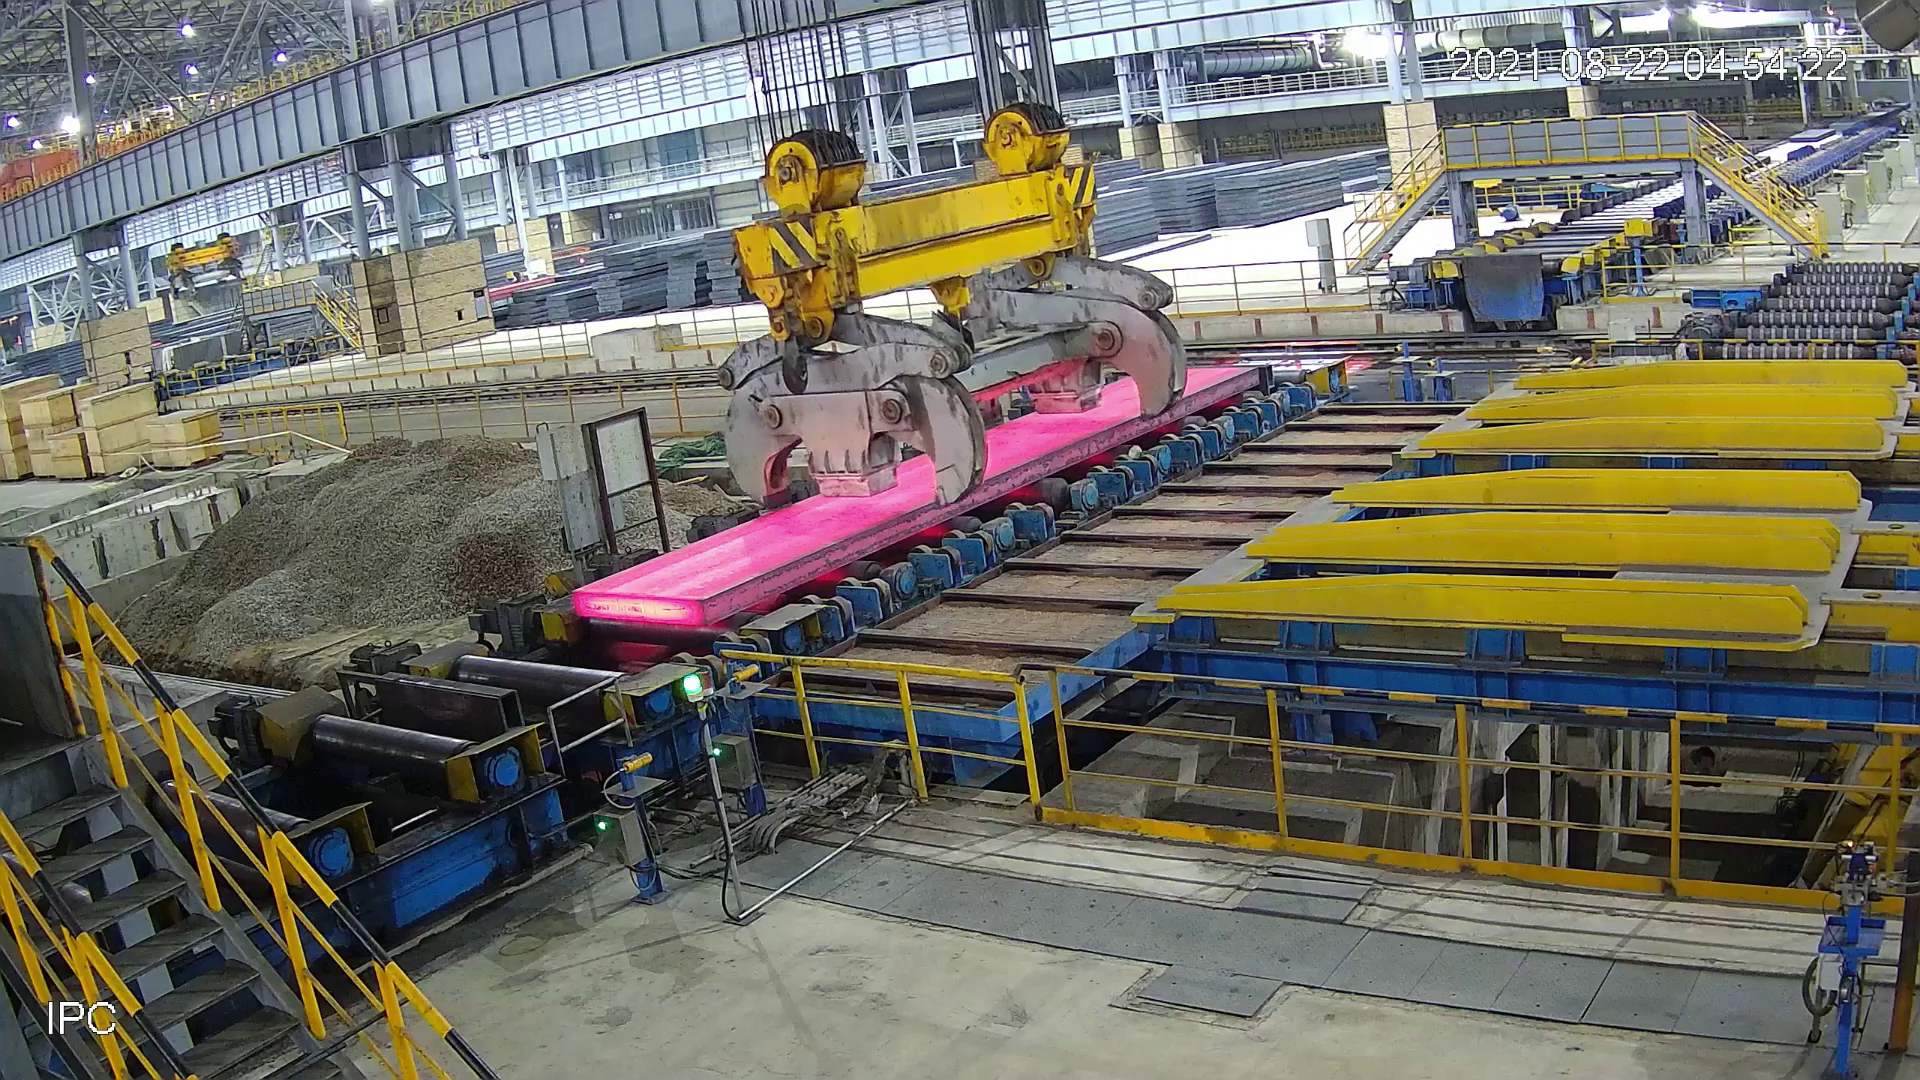crane: (709, 92, 1193, 510)
slab: (567, 369, 1261, 630)
